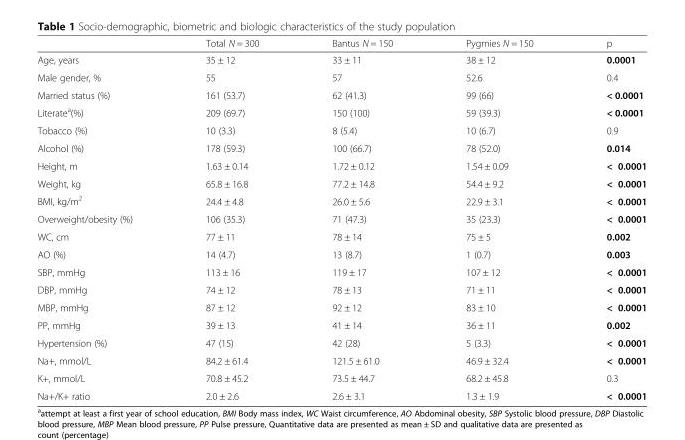table: (36, 37, 646, 401)
table column: (428, 37, 569, 401), (294, 37, 428, 401), (36, 37, 168, 401), (168, 37, 294, 401), (569, 37, 646, 401)
table column header: (36, 37, 646, 50)
table row: (36, 102, 646, 121), (36, 50, 646, 68), (36, 138, 646, 156), (36, 156, 646, 174), (36, 191, 646, 209), (36, 209, 646, 227), (36, 227, 646, 245), (36, 262, 646, 280), (36, 280, 646, 298), (36, 315, 646, 333), (36, 333, 646, 351), (36, 351, 646, 369), (36, 68, 646, 85), (36, 85, 646, 102), (36, 121, 646, 138), (36, 174, 646, 191), (36, 245, 646, 262), (36, 298, 646, 315), (36, 369, 646, 386), (36, 386, 646, 401), (36, 37, 646, 50)
